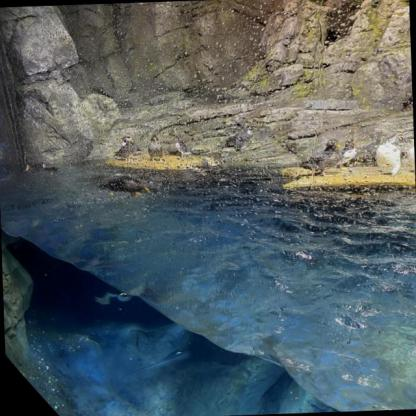puffin: (301, 138, 342, 178), (372, 134, 402, 176), (97, 175, 151, 198), (112, 136, 140, 162), (336, 138, 358, 165), (21, 161, 58, 176), (174, 135, 192, 158), (148, 134, 163, 160), (406, 142, 415, 174)
